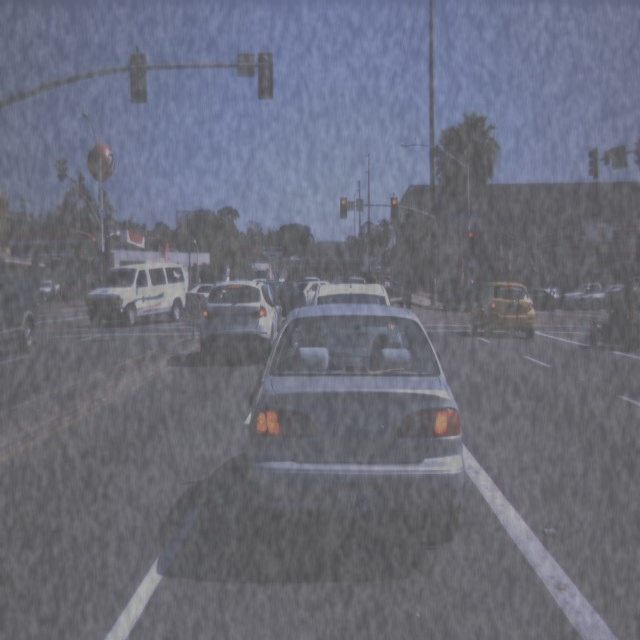stop: (389, 198, 399, 216), (467, 232, 475, 244)
stop left: (336, 195, 351, 222), (88, 235, 100, 255)
stop left traffic light: (336, 195, 351, 222), (88, 235, 100, 255)
stop traffic light: (389, 198, 399, 216), (467, 232, 475, 244)
